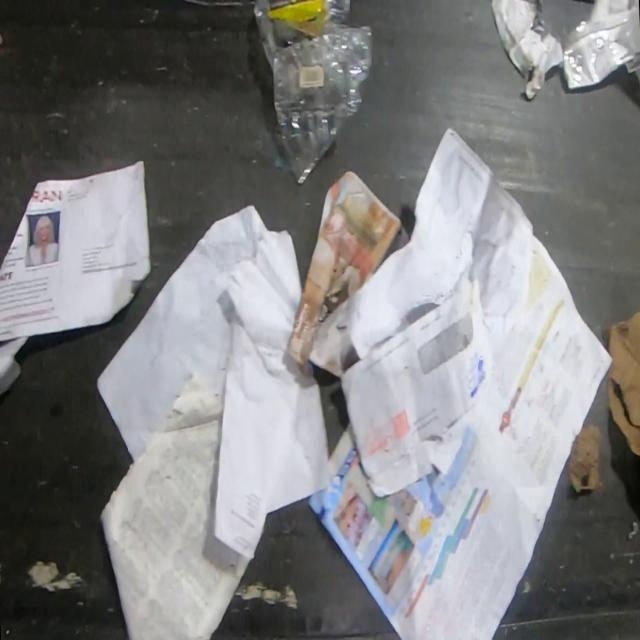cardboard: (606, 312, 640, 457), (567, 423, 599, 492)
rigid_plastic: (253, 0, 373, 186)
